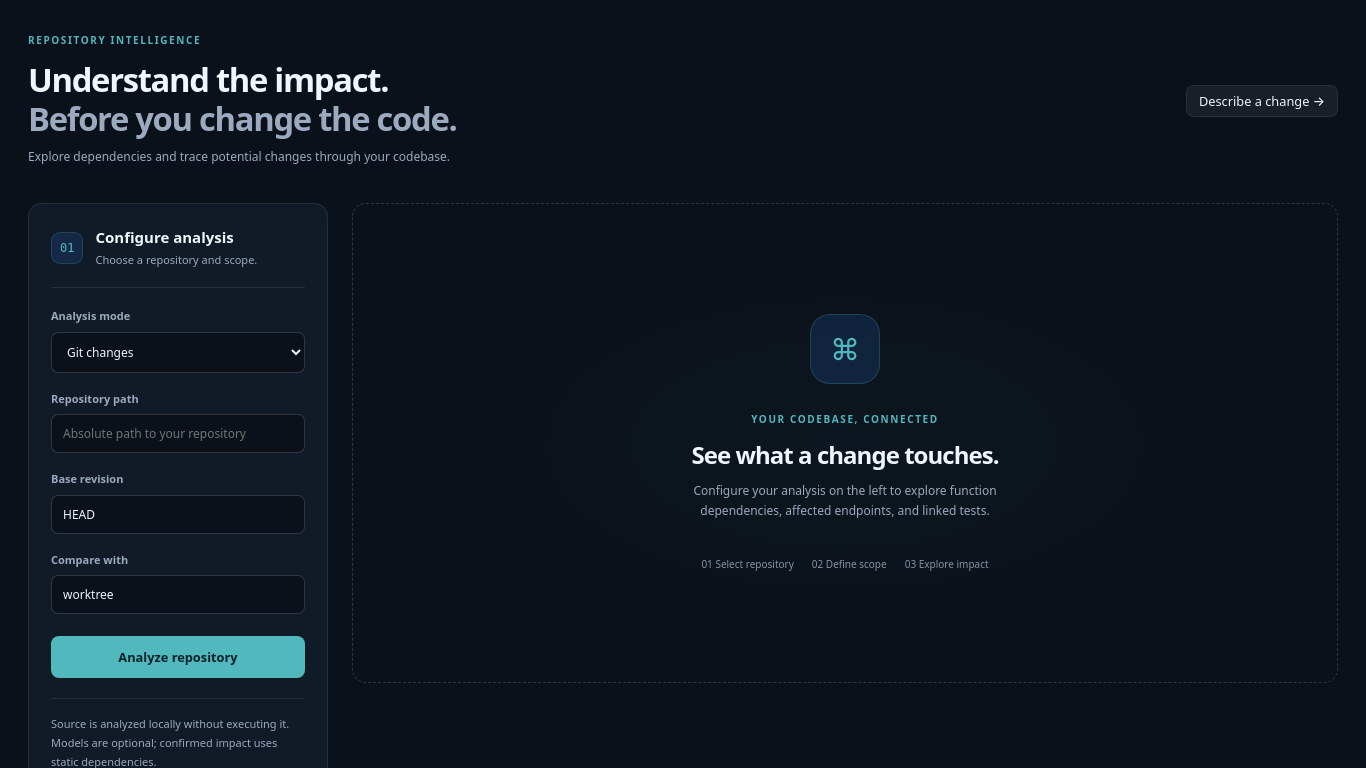
Test: Repository analysis API integration › discards responses that arrive after cancellation
In the field labelled "Repository path": {"x": 178, "y": 434} top-left (51, 414), bottom-right (305, 453), type "examples/commerce"
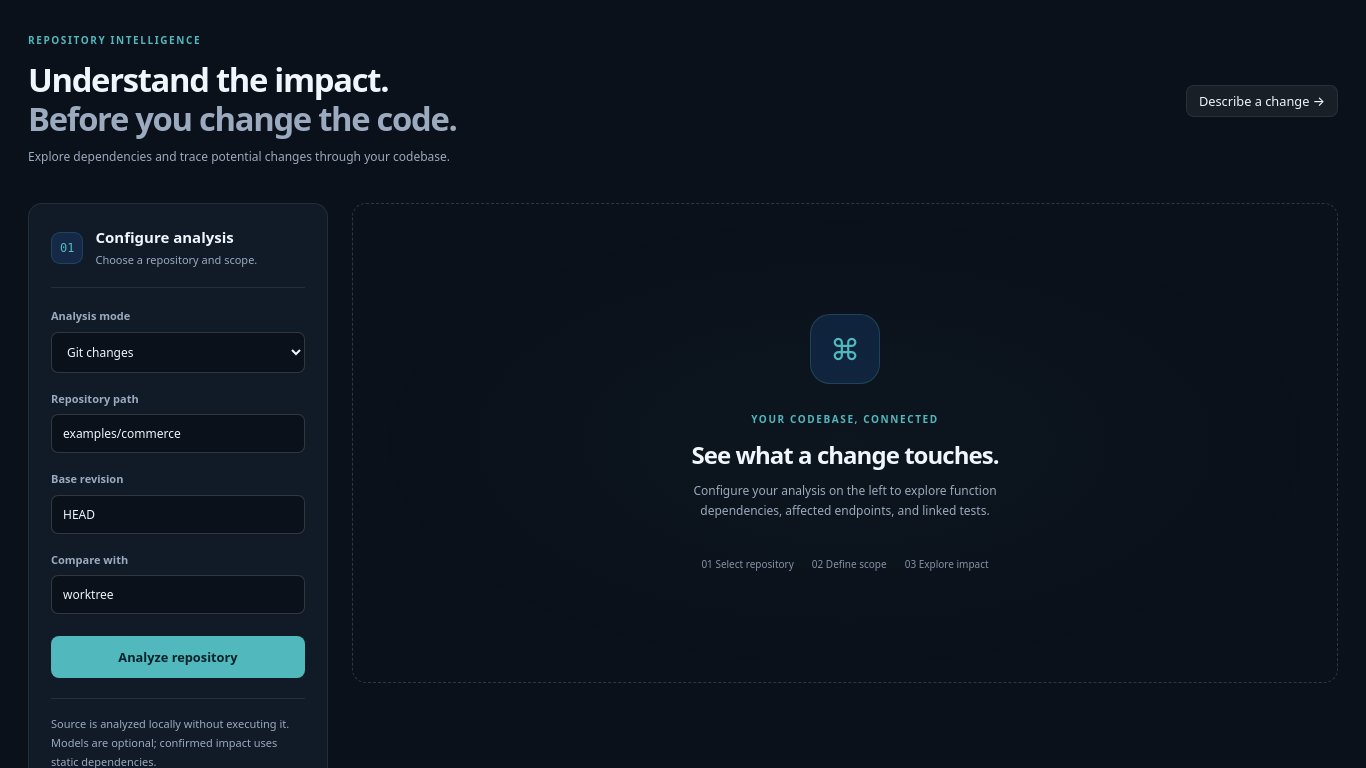
Click the button "Analyze repository": {"x": 178, "y": 657} top-left (51, 636), bottom-right (305, 678)
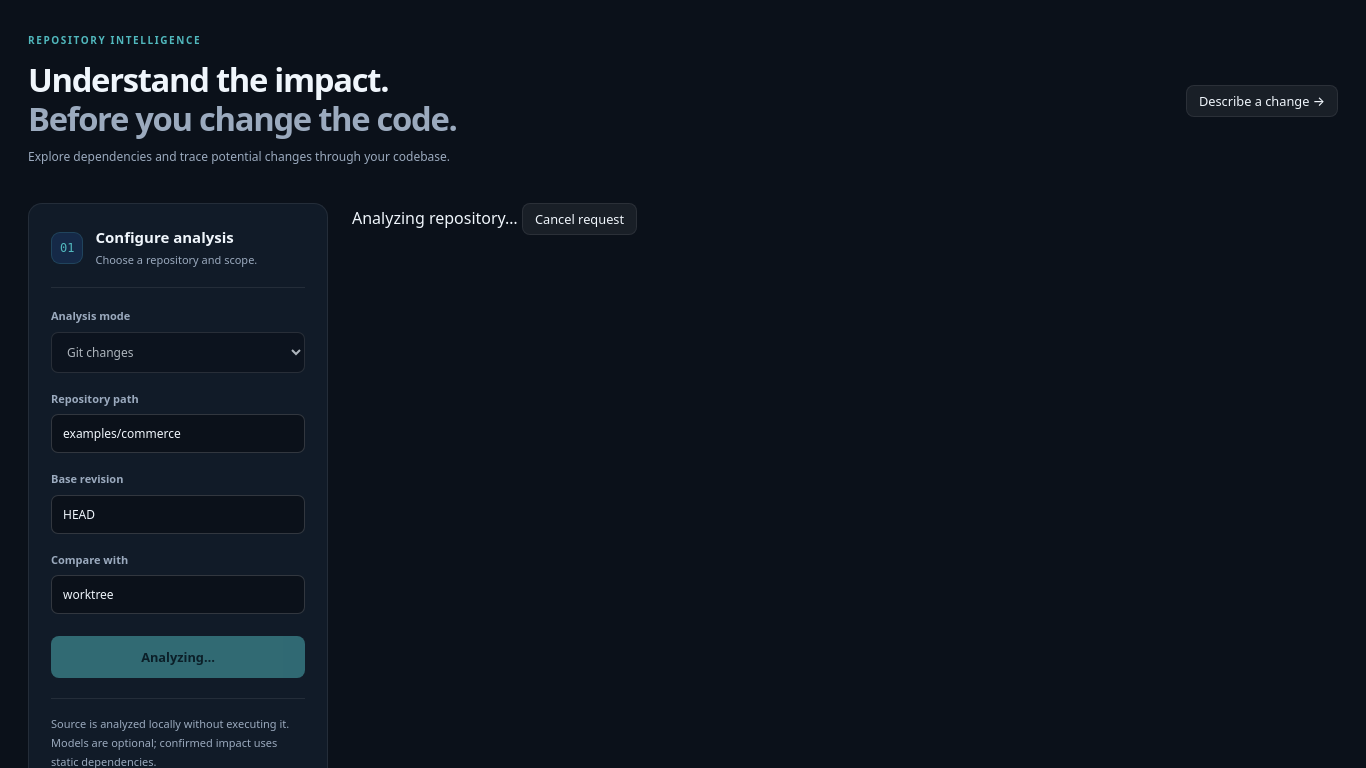
Click the button "Cancel request": {"x": 580, "y": 219} top-left (522, 203), bottom-right (637, 235)
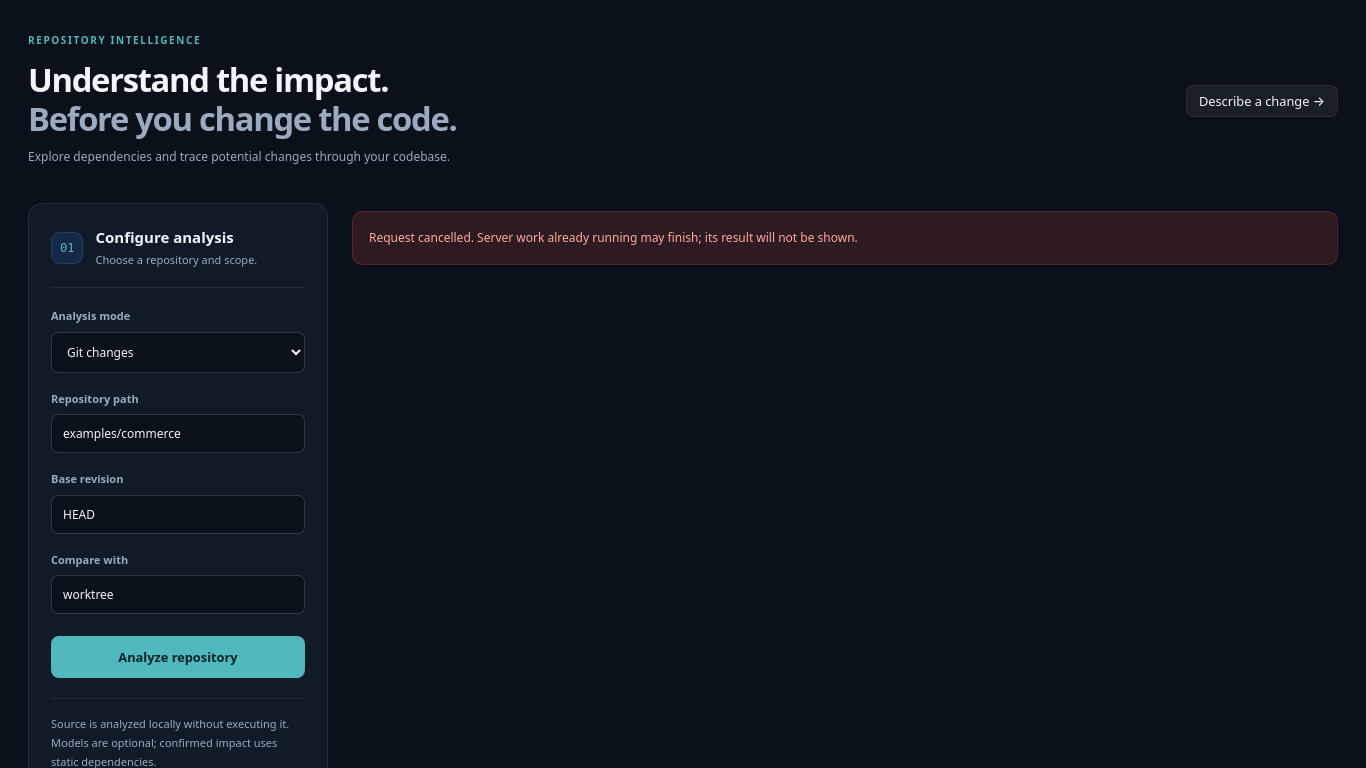
Result: the message shows "cancelled" at top-left (369, 229), bottom-right (858, 246)
